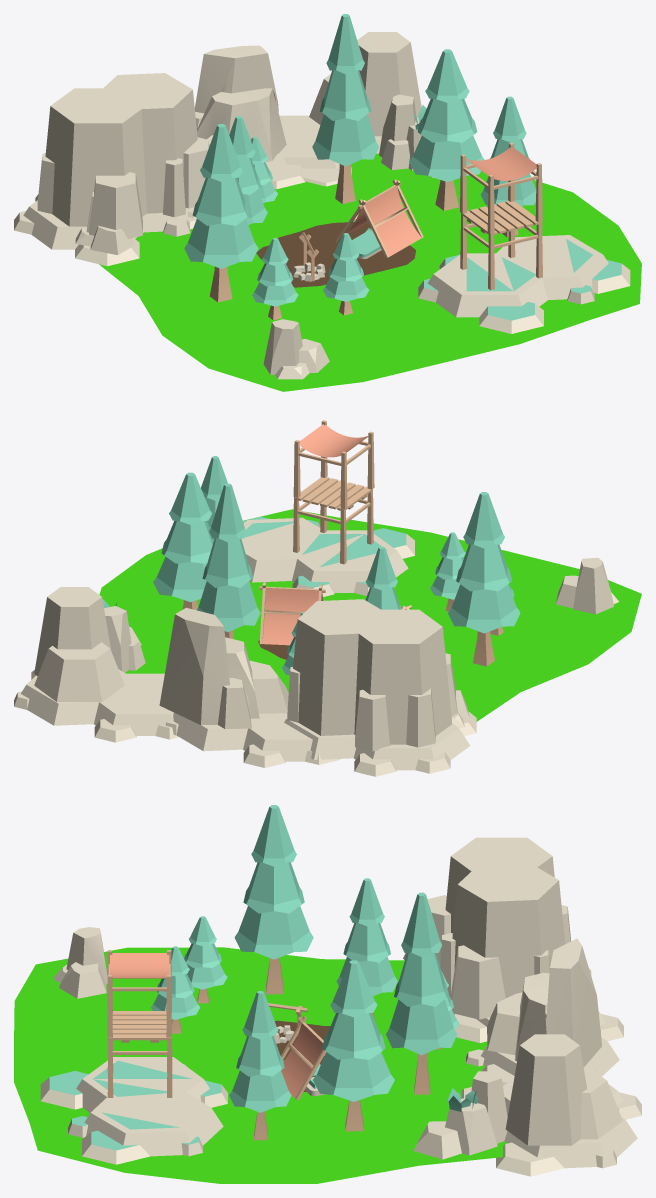
The model's file is forest.glb.
3 renders of one model, top to bottom at view 1: azimuth 30°, elevation 25°; view 2: azimuth 150°, elevation 25°; view 3: azimuth 270°, elevation 25°, orthographic. The views are drawn at different scales.
Parts seen in each view (by area): view 1: ground, rockFlat.004, rockFlatGrass, rockC.001, tree.002, tree.001, tree.004, resourceStone, rockFlat, dirt, structureBase, tentClosed (+12 smaller); view 2: ground, rockFlat.004, rockC.001, rockFlatGrass, resourceStone, tree.002, rockFlat.002, tree.001, tree.004, rockFlat, rockFlat.001, structureBase (+7 smaller); view 3: ground, rockFlat.004, rockFlatGrass, resourceStone, rockC.001, tree.002, tree.004, tree.001, rockFlat.002, tree.005, rockC, tree (+9 smaller).
Boxes of the visible parts, x1=… form: ground: x1=99, y1=153, x2=641, y2=391; rockFlat.004: x1=37, y1=73, x2=209, y2=238; rockFlatGrass: x1=418, y1=235, x2=630, y2=333; rockC.001: x1=194, y1=45, x2=286, y2=162; tree.002: x1=184, y1=124, x2=258, y2=302; tree.001: x1=312, y1=14, x2=378, y2=203; tree.004: x1=409, y1=49, x2=484, y2=210; resourceStone: x1=309, y1=32, x2=421, y2=136; rockFlat: x1=14, y1=194, x2=195, y2=266; dirt: x1=256, y1=222, x2=415, y2=287; structureBase: x1=460, y1=200, x2=542, y2=290; tentClosed: x1=335, y1=179, x2=423, y2=258; ground: x1=99, y1=509, x2=641, y2=721; rockFlat.004: x1=287, y1=599, x2=457, y2=751; rockC.001: x1=159, y1=607, x2=288, y2=729; rockFlatGrass: x1=241, y1=517, x2=414, y2=596; resourceStone: x1=34, y1=587, x2=124, y2=701; tree.002: x1=448, y1=492, x2=520, y2=666; rockFlat.002: x1=14, y1=669, x2=178, y2=742; tree.001: x1=197, y1=483, x2=260, y2=639; tree.004: x1=153, y1=472, x2=214, y2=610; rockFlat: x1=284, y1=711, x2=476, y2=776; rockFlat.001: x1=165, y1=712, x2=339, y2=767; structureBase: x1=293, y1=477, x2=373, y2=564; ground: x1=14, y1=947, x2=507, y2=1183; rockFlat.004: x1=427, y1=837, x2=570, y2=1019; rockFlatGrass: x1=40, y1=1057, x2=227, y2=1164; resourceStone: x1=505, y1=1034, x2=622, y2=1145; rockC.001: x1=487, y1=938, x2=601, y2=1067; tree.002: x1=234, y1=805, x2=313, y2=994; tree.004: x1=313, y1=960, x2=394, y2=1131; tree.001: x1=386, y1=892, x2=457, y2=1094; rockFlat.002: x1=461, y1=1078, x2=641, y2=1176; tree.005: x1=229, y1=991, x2=291, y2=1140; rockC: x1=413, y1=1071, x2=507, y2=1159; tree: x1=336, y1=878, x2=397, y2=1019.
Bounding box in the file's own units: 17.45 × 6.96 × 19.41.
